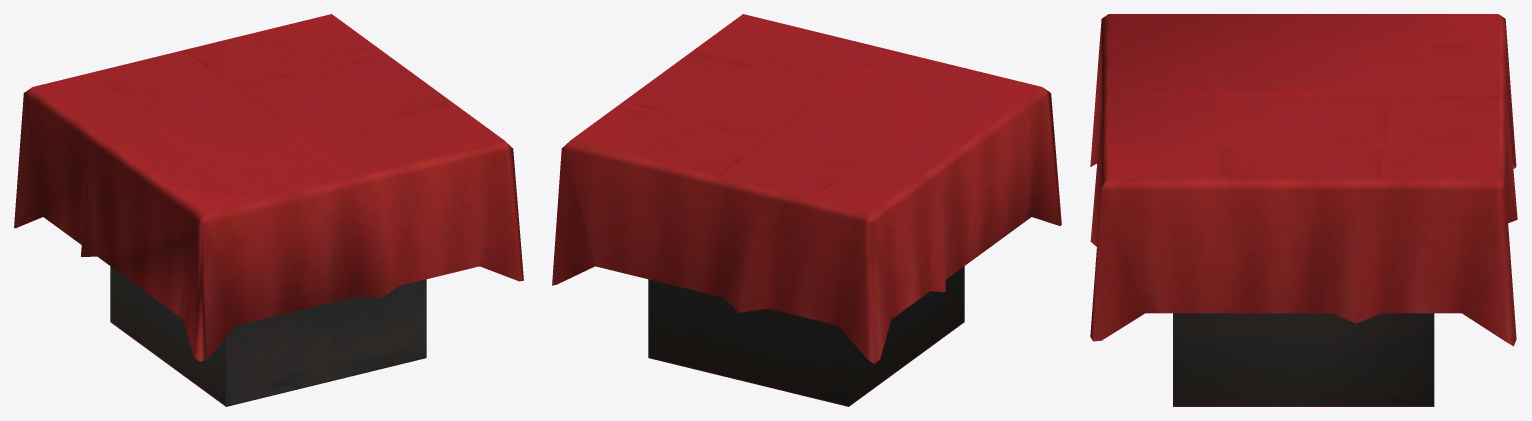
File: table_square_sm_club.fbx
3 renders of one model, left to right at view 1: azimuth 30°, elevation 25°; view 2: azimuth 150°, elevation 25°; view 3: azimuth 270°, elevation 25°, orthographic. The views are drawn at different scales.
Visible parts, largest first — view 1: mesh_0; view 2: mesh_0; view 3: mesh_0.
Boxes of the visible parts, box(x1,y1,x2,y2) form: mesh_0: box(14, 14, 523, 406); mesh_0: box(552, 14, 1061, 406); mesh_0: box(1090, 14, 1517, 406).
Bounding box in the file's own units: 78.11 × 51.6 × 78.26.
1 material, 1 textured.
